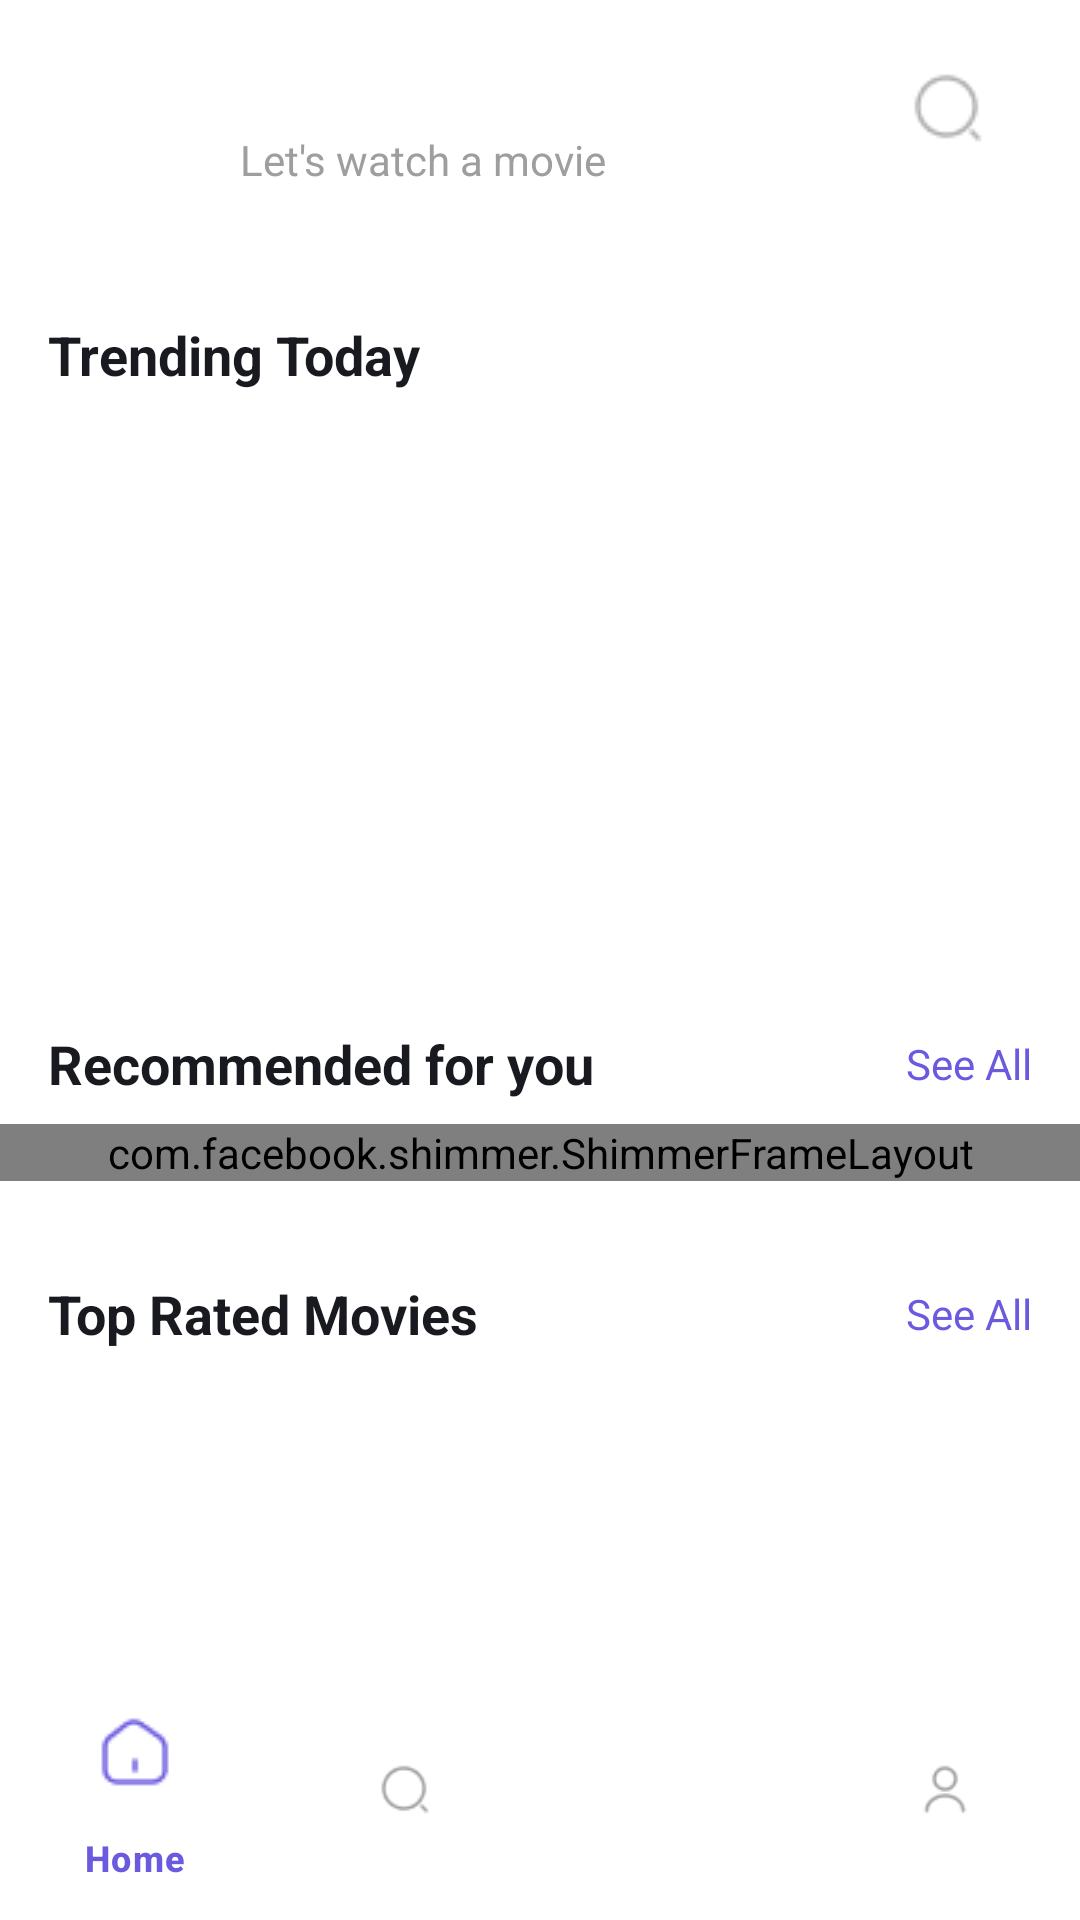

Screen size 1080×1920. Icon name, then its box in pixels as BBox(x1, y1, x2, y2):
search: BBox(915, 75, 980, 141)
